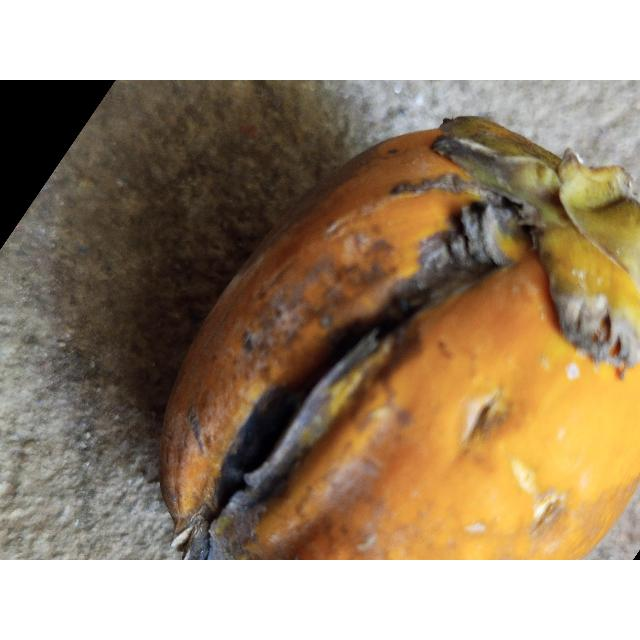damaged: (160, 117, 640, 560)
